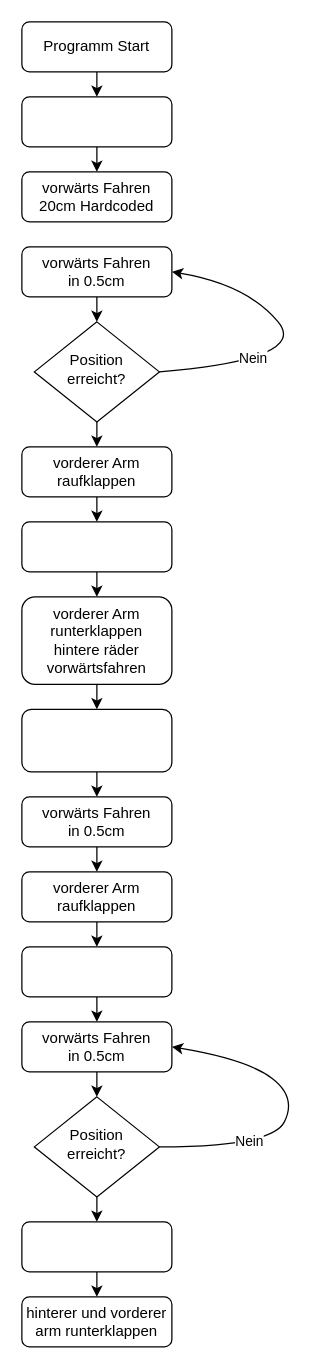
Some shapes in this 311 by 1369 pixel diagram are drawn without their labels. Here are the shapes that lost their labels. From the top down, the centre of each, then its label:
point 96,121: Aufklappen
point 96,546: vorwärts Fahren in 5 cm
point 96,740: Hinterer Arm runterklappen vorwärtsfahren
point 96,971: hinterer Arm raufklappen
point 96,1246: auf Ziel Position fahren
